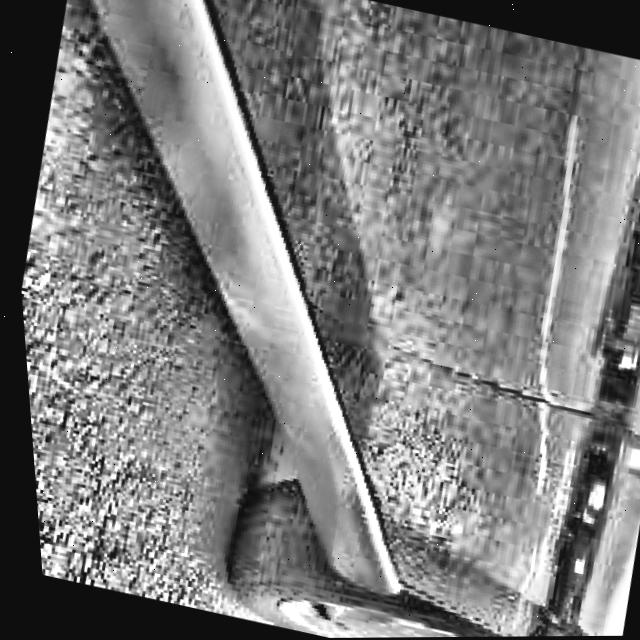door_scratch: (458, 95, 640, 507)
